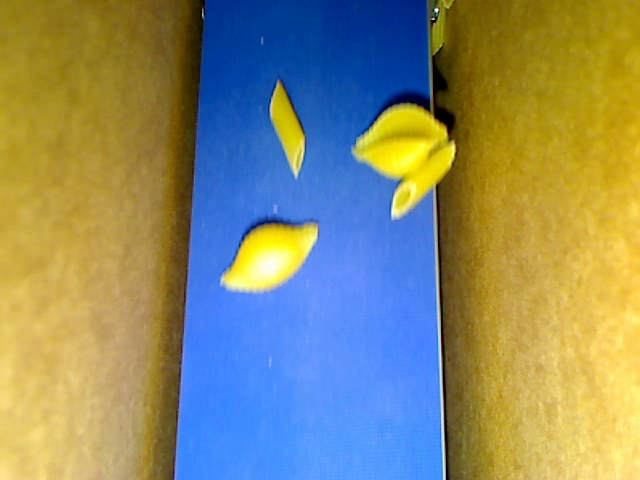penne: (391, 138, 457, 218), (265, 73, 305, 178), (430, 1, 445, 55), (439, 1, 455, 12)
shell: (216, 218, 317, 294), (353, 102, 447, 178)
